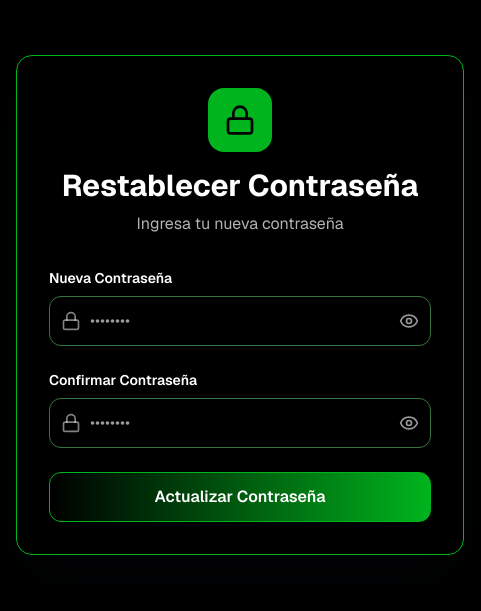
Test: ResetPassword Page › debe validar que las contraseñas coincidan
Type "password123" into the password field labelled "Nueva Contraseña" at [240, 321], box [49, 296, 431, 346]
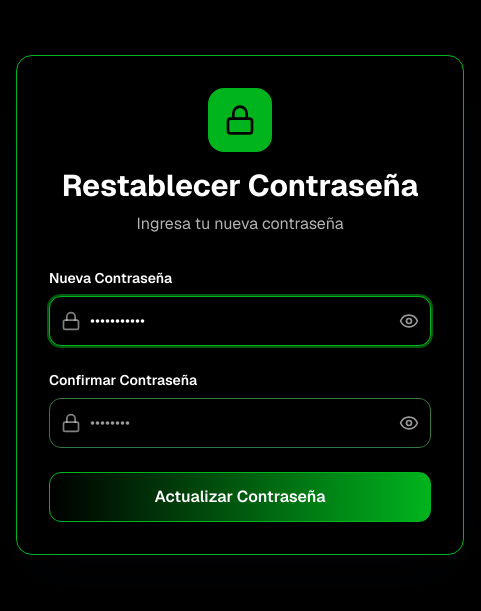
Type "different" into the password field labelled "Confirmar Contraseña" at [240, 423], box [49, 398, 431, 448]
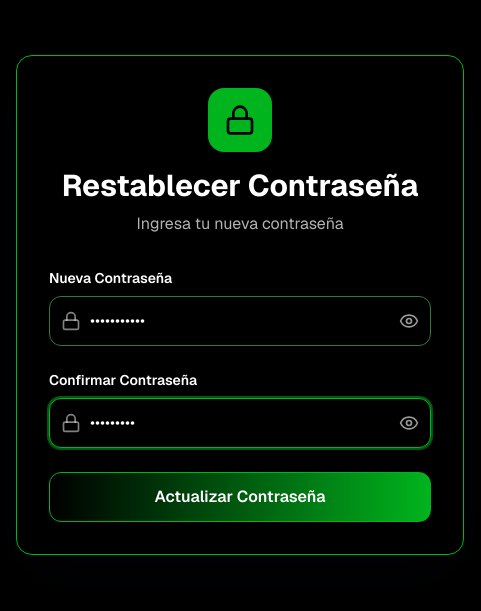
Click the button "Actualizar Contraseña" at [240, 497], box [49, 472, 431, 522]
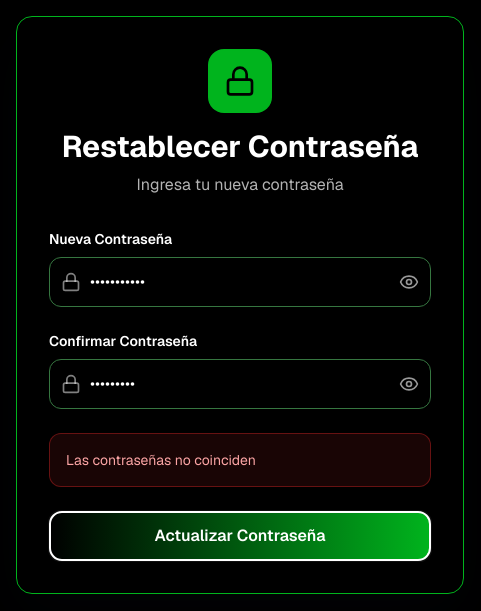
Expected: the text "Las contraseñas no coinciden" is shown, [66, 451, 256, 469]
